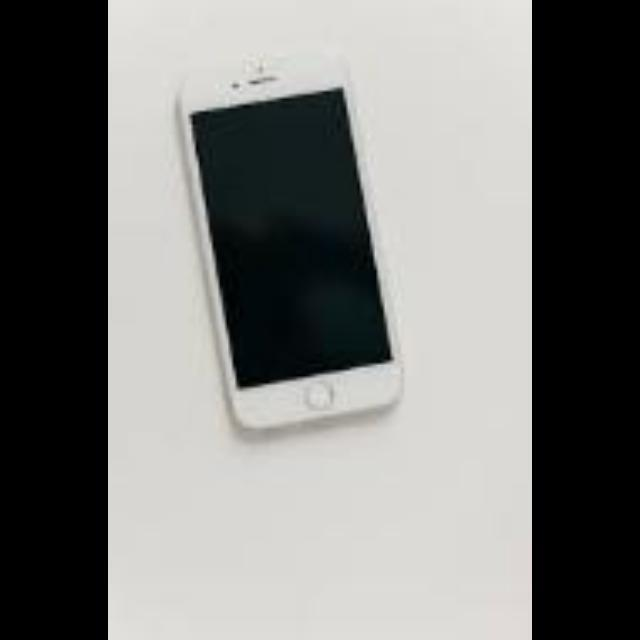Phone: (180, 51, 406, 435)
